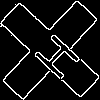H: (25, 25, 83, 83)
